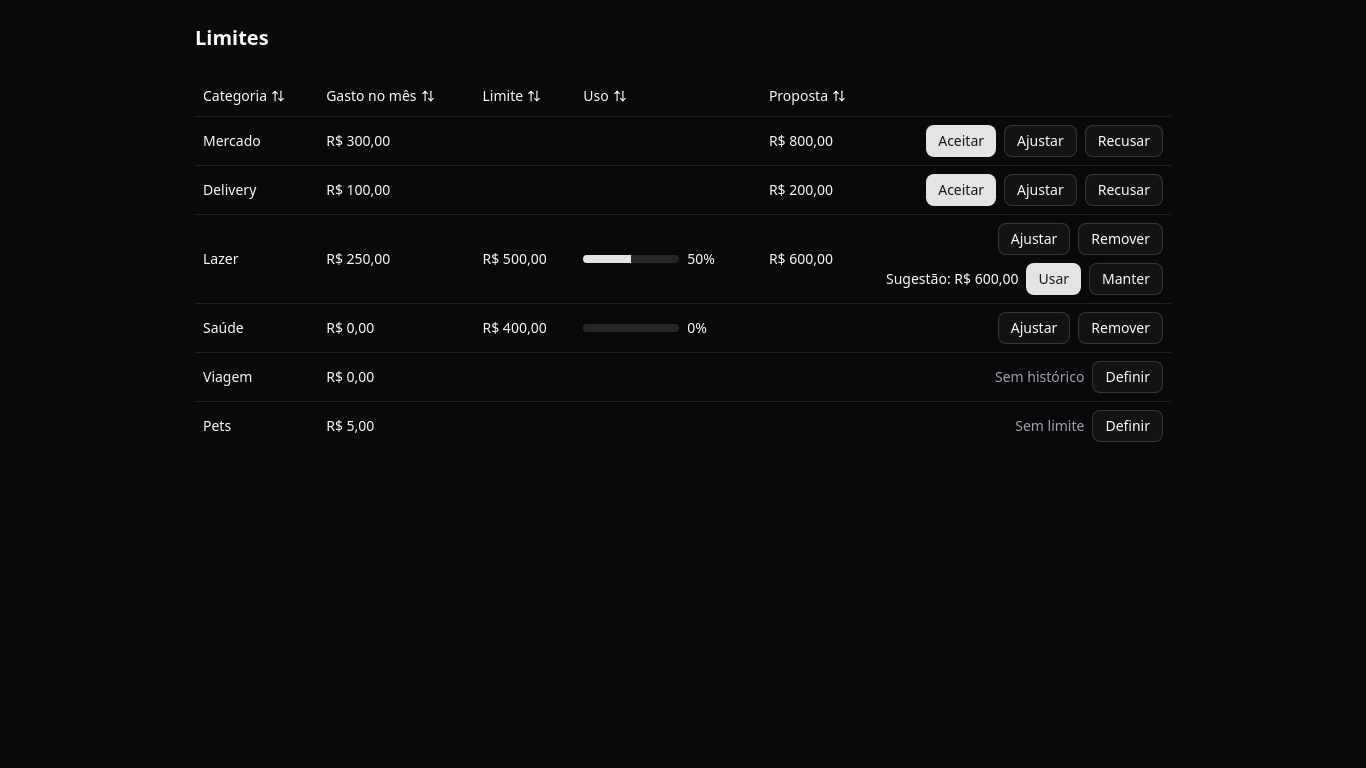
Limits › prefills the dialog with the proposal on a new row
Click the button with aria-label "Ajustar Mercado" at (1040, 140), box [1004,124,1077,156]
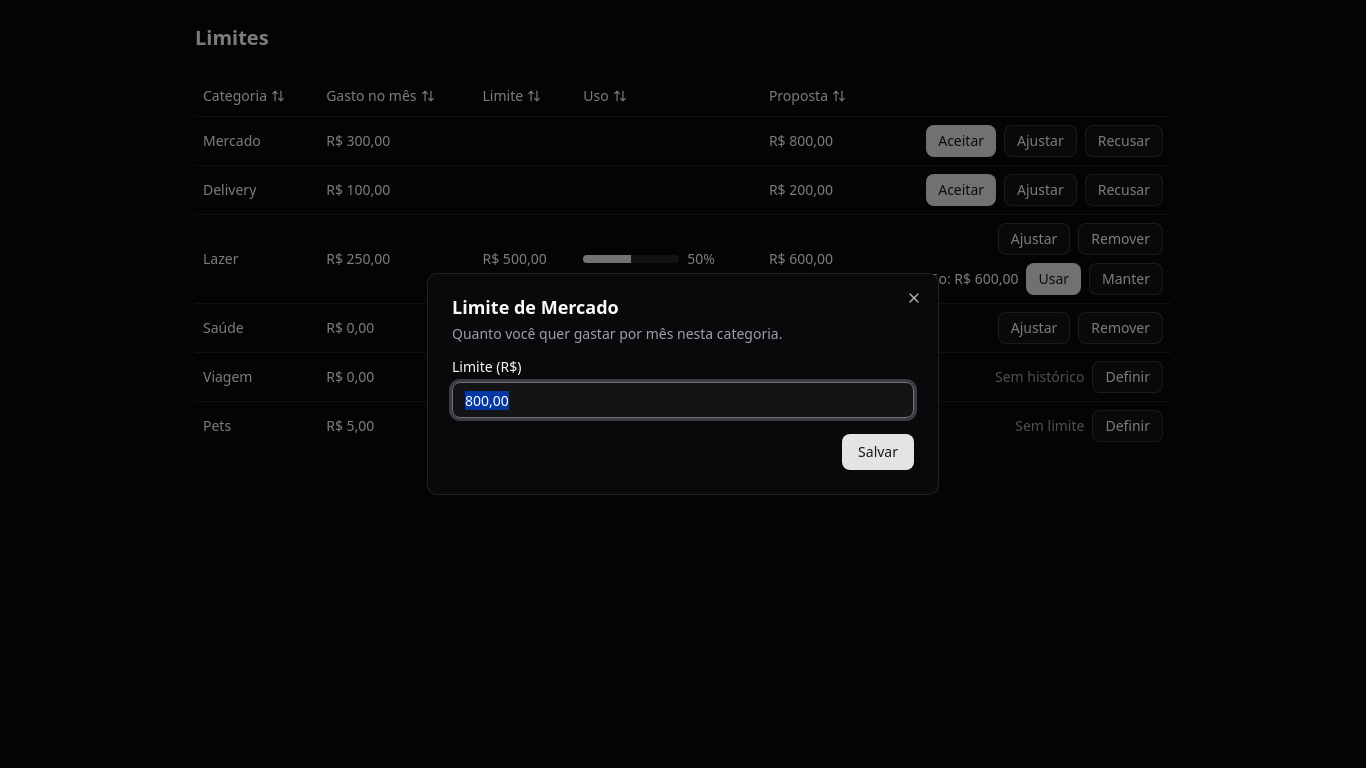
Expected: the field labelled "Limite (R$)" holds "800,00", [452,382,914,418]
